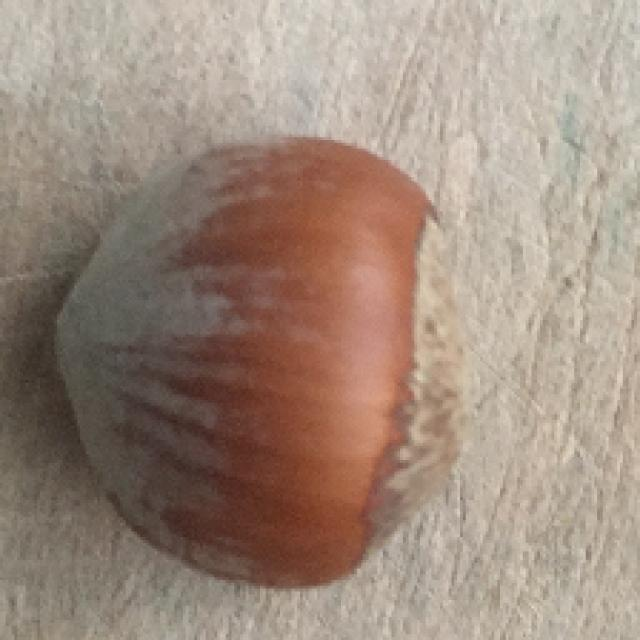qualityHazelnut: (52, 133, 482, 591)
